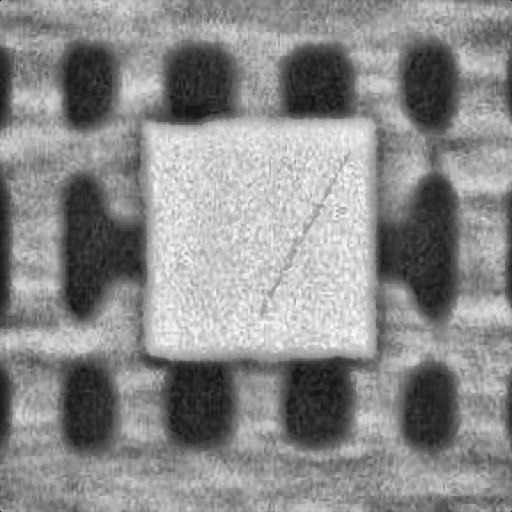DIE_CRACK: (388, 100, 512, 208)
